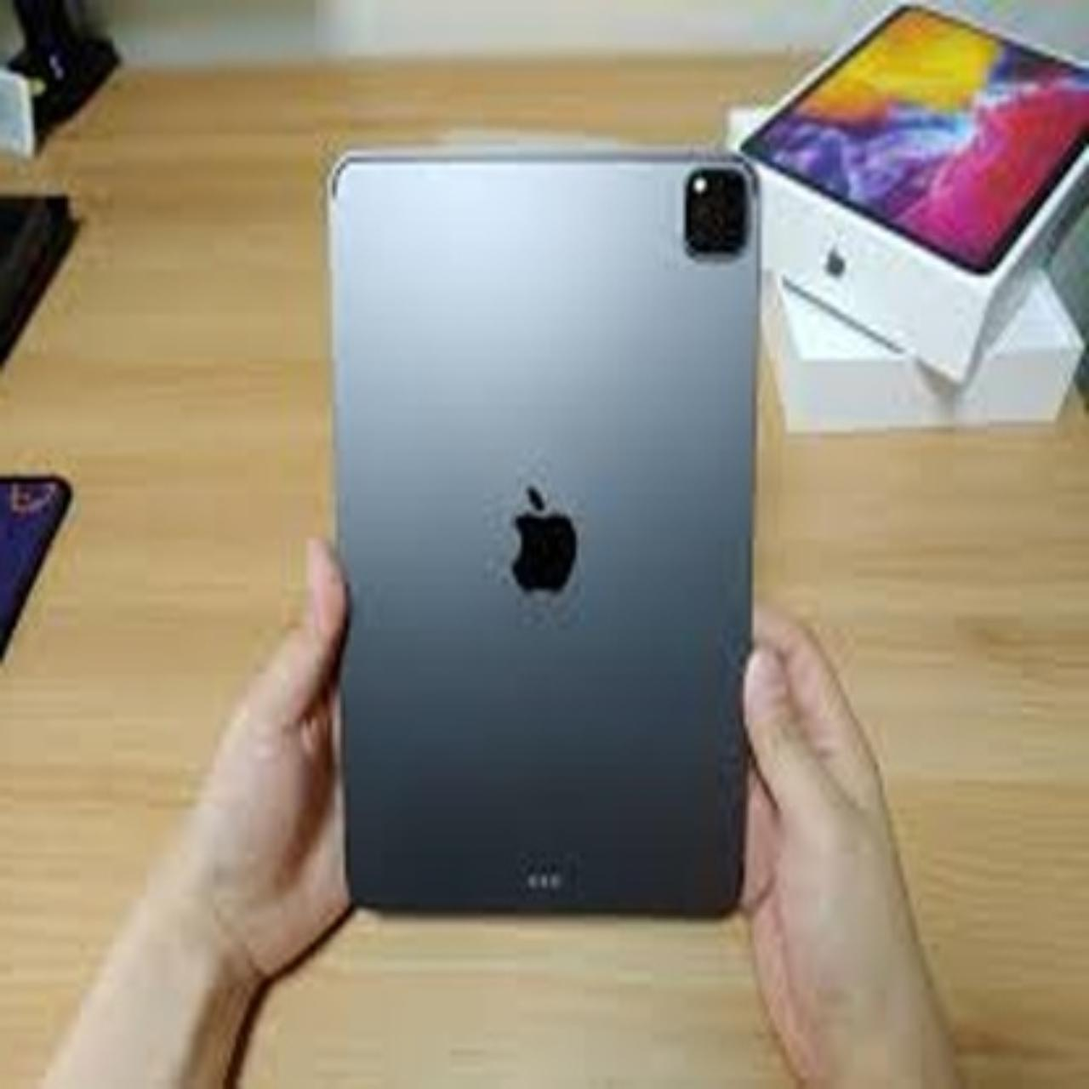Tablet_PC: (314, 142, 770, 942)
